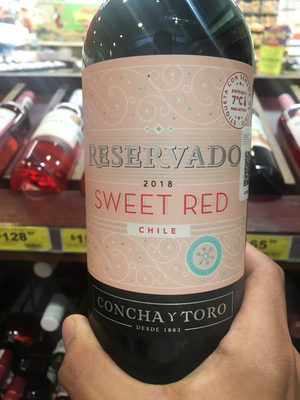reservado sweet red: (79, 12, 277, 394)
